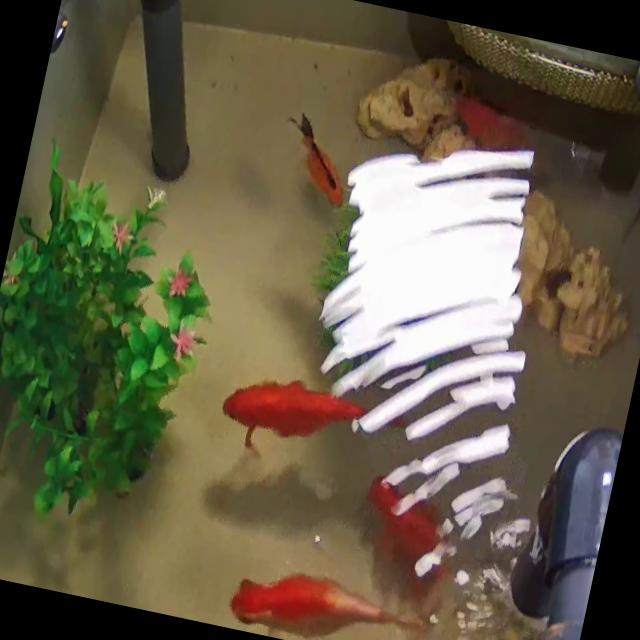fish: (210, 366, 365, 489), (211, 551, 404, 640), (351, 472, 466, 605), (272, 110, 360, 212), (446, 92, 538, 162)
